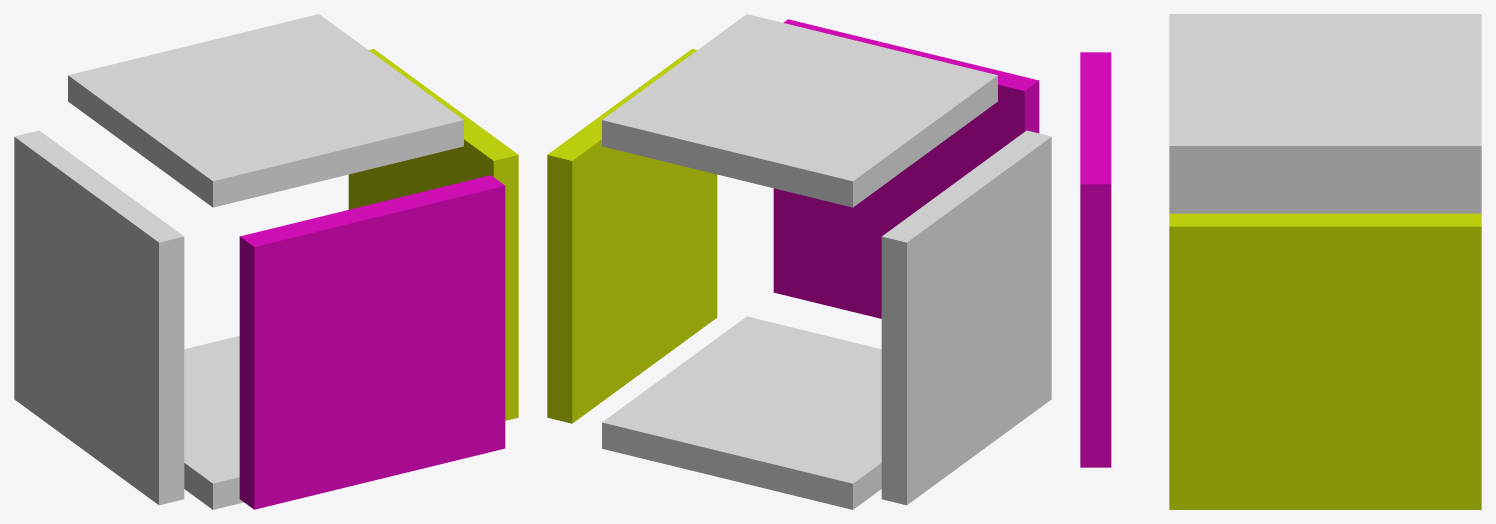
Rendered from walls.dae.
3 views of the same model, side by side, from view 1: azimuth 30°, elevation 25°; view 2: azimuth 150°, elevation 25°; view 3: azimuth 270°, elevation 25° (orthographic). The views are drawn at different scales.
Visible parts, largest first — view 1: Cube.004, Cube.001, Cube.003, Cube, Cube.002; view 2: Cube.001, Cube.003, Cube, Cube.002, Cube.004; view 3: Cube, Cube.003, Cube.004, Cube.001.
Part boxes in pixels (x1,y1,x2,y2): Cube.004: (239, 175, 505, 509); Cube.001: (14, 130, 184, 505); Cube.003: (68, 14, 463, 207); Cube: (348, 49, 518, 420); Cube.002: (184, 336, 243, 509); Cube.001: (881, 130, 1051, 505); Cube.003: (602, 14, 997, 207); Cube: (547, 49, 717, 423); Cube.002: (602, 316, 881, 509); Cube.004: (773, 19, 1039, 318); Cube: (1169, 213, 1481, 509); Cube.003: (1169, 14, 1481, 174); Cube.004: (1080, 52, 1111, 467); Cube.001: (1169, 174, 1481, 213).
Size of the model in its own units: 2.87 by 2.5 by 2.57.
